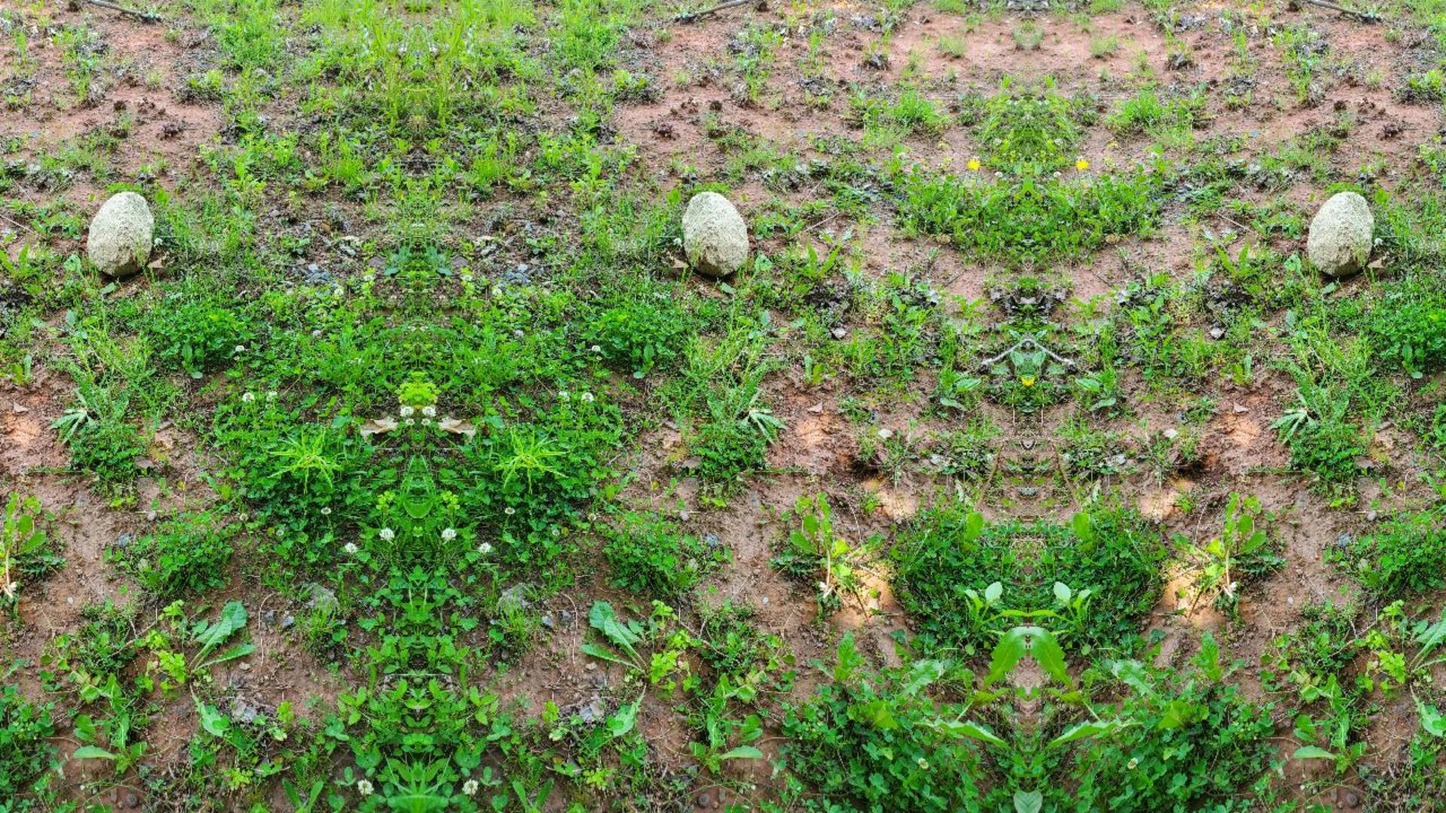rock: (87, 191, 153, 276), (682, 192, 748, 276), (1307, 192, 1373, 276)
